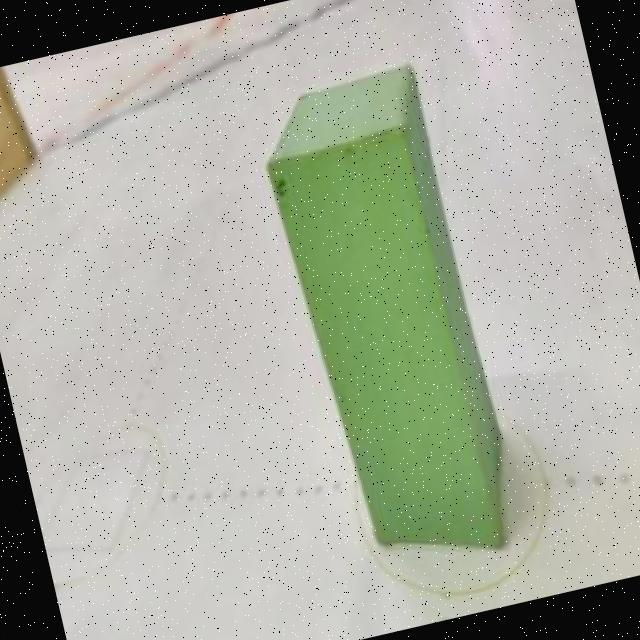greenbox: (247, 60, 524, 582)
